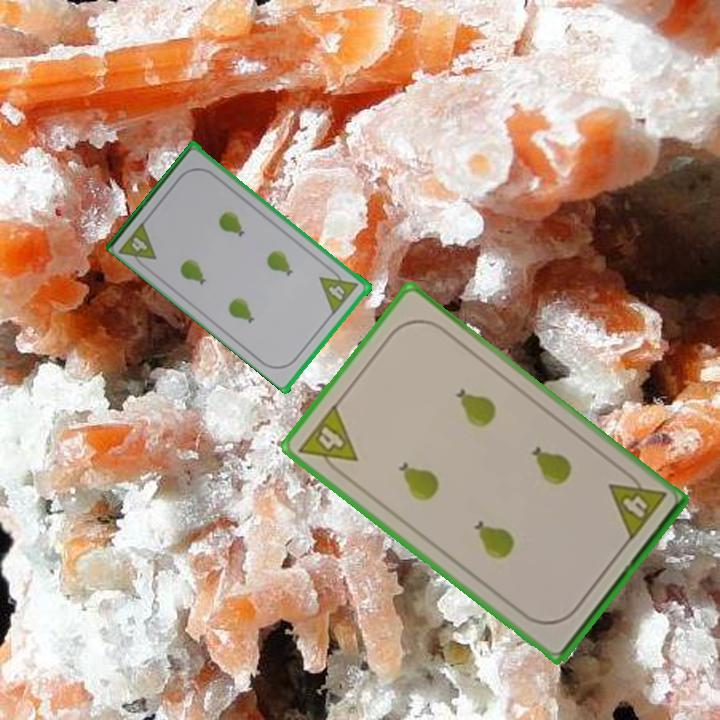4p: (294, 400, 361, 481), (605, 466, 669, 544), (116, 217, 160, 273), (316, 264, 362, 316)
